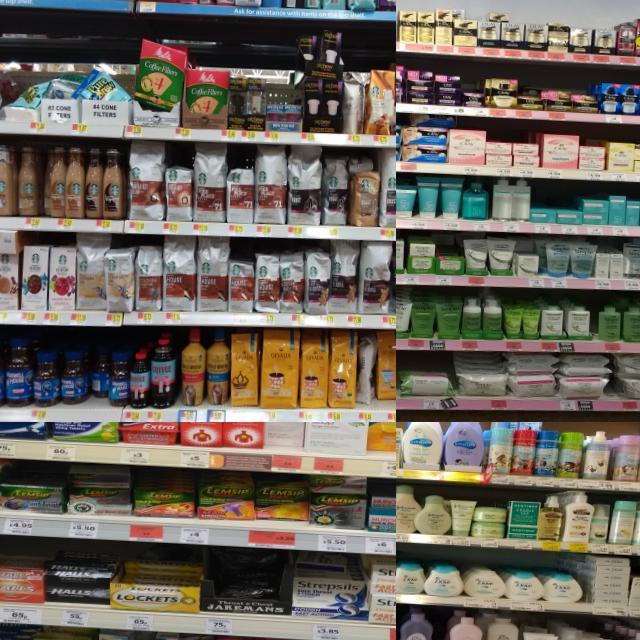Imprecise: (80, 350, 108, 414)
